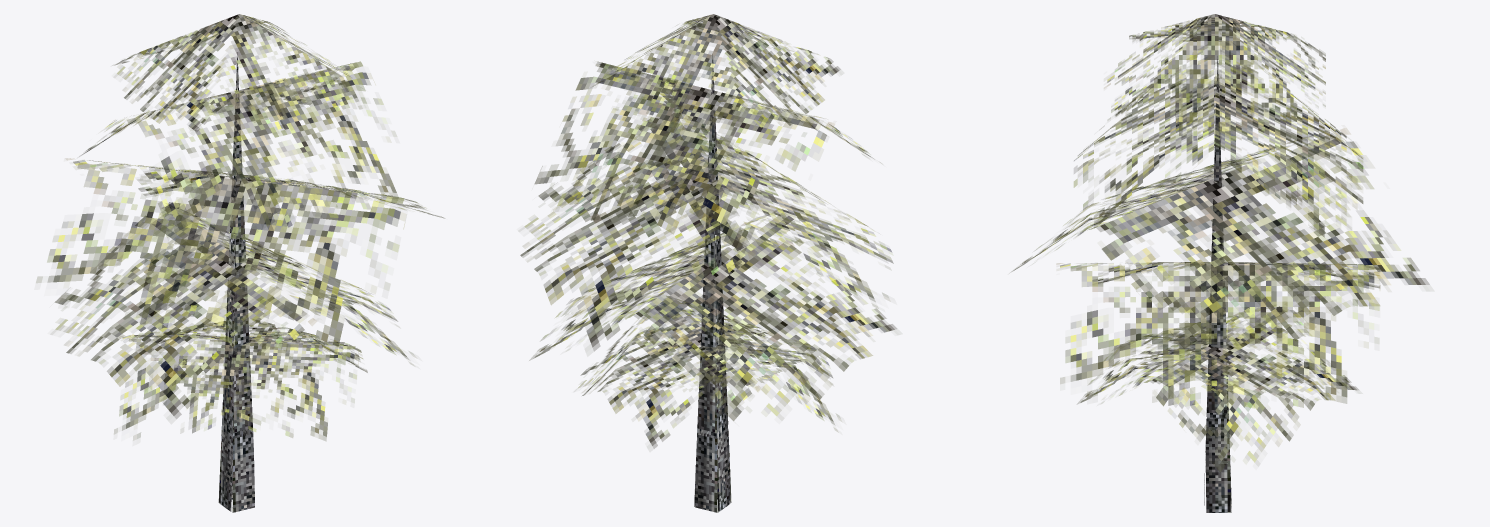
Rendered from Environment - Vegetation - Tree Cherry Blossom 02 - PTOakFall7.glb.
The picture shows the model from 3 angles, left to right: view 1: azimuth 30°, elevation 25°; view 2: azimuth 150°, elevation 25°; view 3: azimuth 270°, elevation 25°; orthographic projection.
Visible parts, largest first — view 1: PTOAKFALL7; view 2: PTOAKFALL7; view 3: PTOAKFALL7.
Boxes of the visible parts, bbox=[...] form: PTOAKFALL7: bbox=[36, 14, 444, 512]; PTOAKFALL7: bbox=[520, 14, 896, 512]; PTOAKFALL7: bbox=[1012, 14, 1429, 512].
Size of the model in its own units: 35.74 by 37.95 by 35.74.
1 material, 1 textured.
